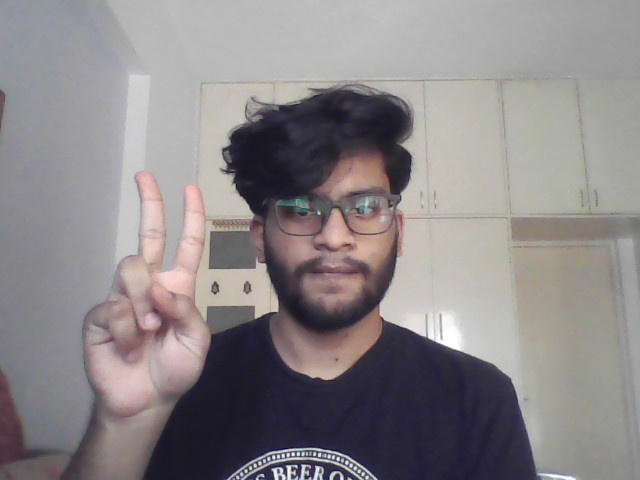Peace: (77, 167, 221, 412)
